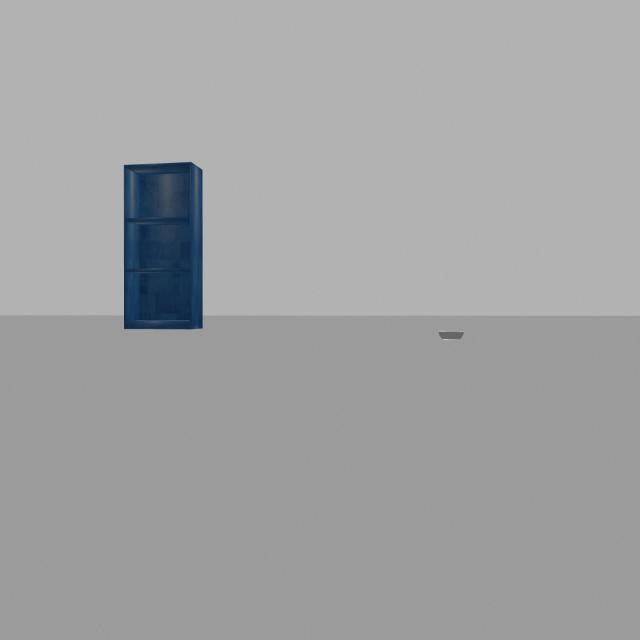bowl: (432, 314, 476, 353)
shelf: (107, 151, 221, 346)
